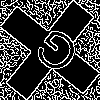G: (25, 25, 84, 85)
